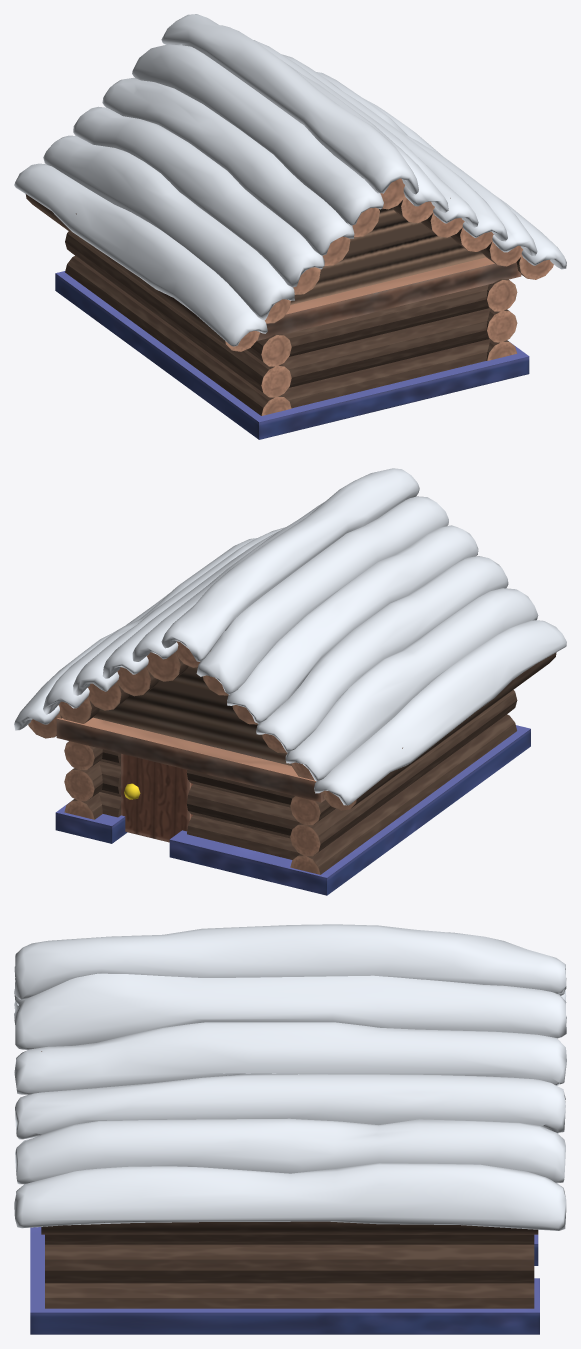
File: cabin_6.glb
3 views of the same model, one above another, from view 1: azimuth 30°, elevation 25°; view 2: azimuth 150°, elevation 25°; view 3: azimuth 270°, elevation 25° (orthographic). The views are drawn at different scales.
Visible parts, largest first — view 1: Snow, Wall Back.010, Base.005, Wall Right.007, Top of House.005, Roof.005, Plank.047, Wall Left.007; view 2: Snow, Wall Right.007, Base.005, Wall Back.011, Top of House.005, Plank.047, Roof.005, Door, Wall Left.007; view 3: Snow, Wall Left.007, Base.005, Roof.005.
Boxes of the visible parts, x1,y1,x2,y2 form: Snow: (14,14,566,346); Wall Back.010: (281,284,490,408); Base.005: (55,271,529,439); Wall Right.007: (65,231,291,415); Top of House.005: (290,208,485,304); Roof.005: (25,178,553,351); Plank.047: (257,257,521,340); Wall Left.007: (486,279,517,360); Snow: (14,468,566,805); Wall Right.007: (290,690,517,874); Base.005: (55,725,530,895); Wall Back.011: (99,749,299,859); Top of House.005: (93,666,291,765); Plank.047: (56,717,324,802); Roof.005: (28,641,556,810); Door: (121,753,192,842); Wall Left.007: (64,741,102,819); Snow: (14,924,566,1230); Wall Left.007: (45,1234,534,1308); Base.005: (30,1227,539,1334); Roof.005: (41,1051,538,1234).
Size of the model in its own units: 6.92 by 5.05 by 7.82.
Materials: 8 (7 with a texture image).
